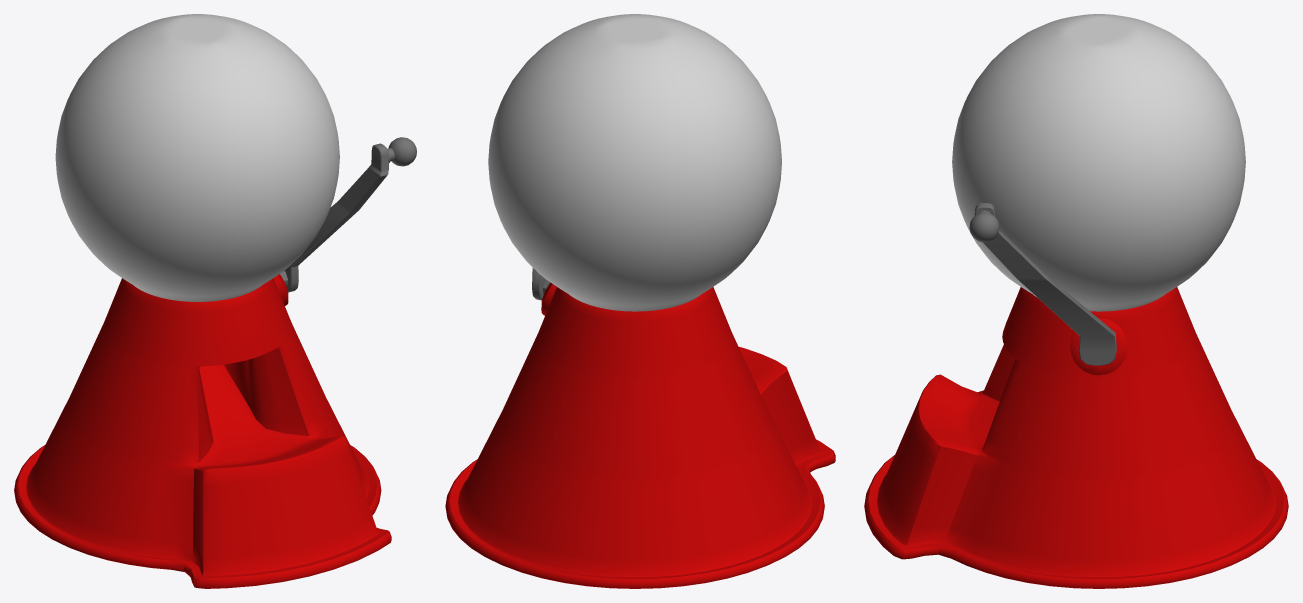
File: gumball.fbx
3 views of the same model, side by side, from view 1: azimuth 30°, elevation 25°; view 2: azimuth 150°, elevation 25°; view 3: azimuth 270°, elevation 25° (orthographic). The views are drawn at different scales.
Parts seen in each view (by area): view 1: Gumball_Unity, Glass, GumballCrank; view 2: Gumball_Unity, Glass; view 3: Gumball_Unity, Glass, GumballCrank, CrankBase.
Boxes of the visible parts, x1,y1,x2,y2 form: Gumball_Unity: (14, 278, 391, 588); Glass: (55, 14, 339, 301); GumballCrank: (280, 137, 416, 292); Gumball_Unity: (445, 287, 835, 588); Glass: (488, 14, 781, 311); Gumball_Unity: (864, 287, 1288, 588); Glass: (952, 14, 1245, 311); GumballCrank: (969, 203, 1116, 365); CrankBase: (1070, 317, 1127, 375).
Bounding box in the file's own units: 76.87 × 107 × 85.2.
